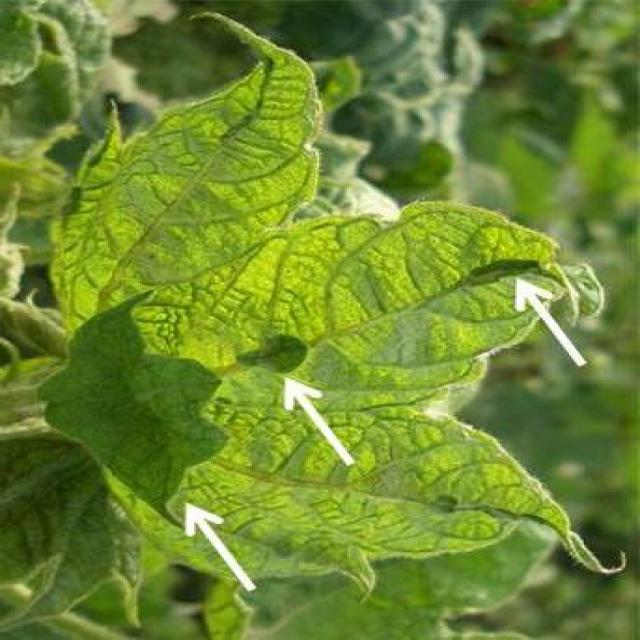Leaf Curl Virus: (121, 144, 450, 517)
